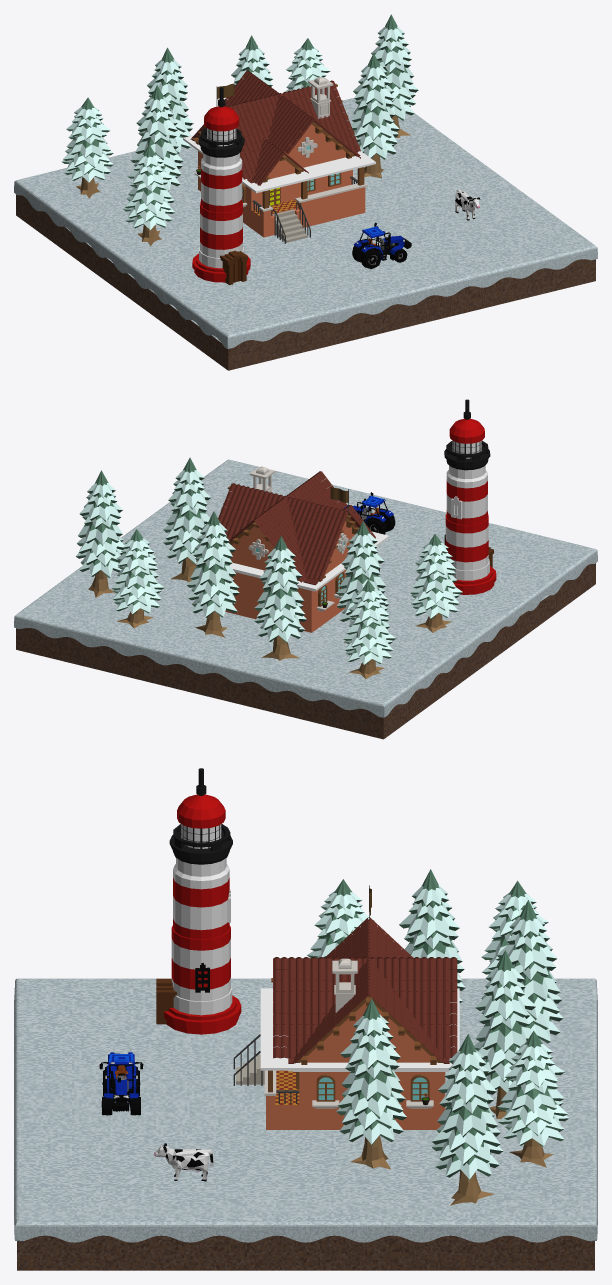
3 renders of one model, top to bottom at view 1: azimuth 30°, elevation 25°; view 2: azimuth 150°, elevation 25°; view 3: azimuth 270°, elevation 25°, orthographic. The views are drawn at different scales.
Visible parts, largest first — view 1: Cube.003, Cube.1141, OBJRANDOM_LIGHTHOUSE, VEHICLES_TRACTOR, ANIMAL_VACA; view 2: Cube.003, Cube.1141, OBJRANDOM_LIGHTHOUSE, VEHICLES_TRACTOR; view 3: Cube.003, Cube.1141, OBJRANDOM_LIGHTHOUSE, VEHICLES_TRACTOR, ANIMAL_VACA.
Part boxes in pixels (x1,y1,x2,y2): Cube.003: (14, 14, 597, 370); Cube.1141: (183, 70, 375, 243); OBJRANDOM_LIGHTHOUSE: (192, 87, 250, 285); VEHICLES_TRACTOR: (352, 222, 411, 268); ANIMAL_VACA: (455, 189, 480, 220); Cube.003: (14, 457, 597, 739); Cube.1141: (196, 466, 389, 632); OBJRANDOM_LIGHTHOUSE: (444, 399, 496, 594); VEHICLES_TRACTOR: (342, 492, 395, 534); Cube.003: (14, 869, 597, 1270); Cube.1141: (233, 885, 459, 1129); OBJRANDOM_LIGHTHOUSE: (156, 768, 241, 1034); VEHICLES_TRACTOR: (99, 1052, 143, 1115); ANIMAL_VACA: (154, 1143, 213, 1181).
Bounding box in the file's own units: 4040 × 2503 × 4040.
39 materials, 3 textured.
